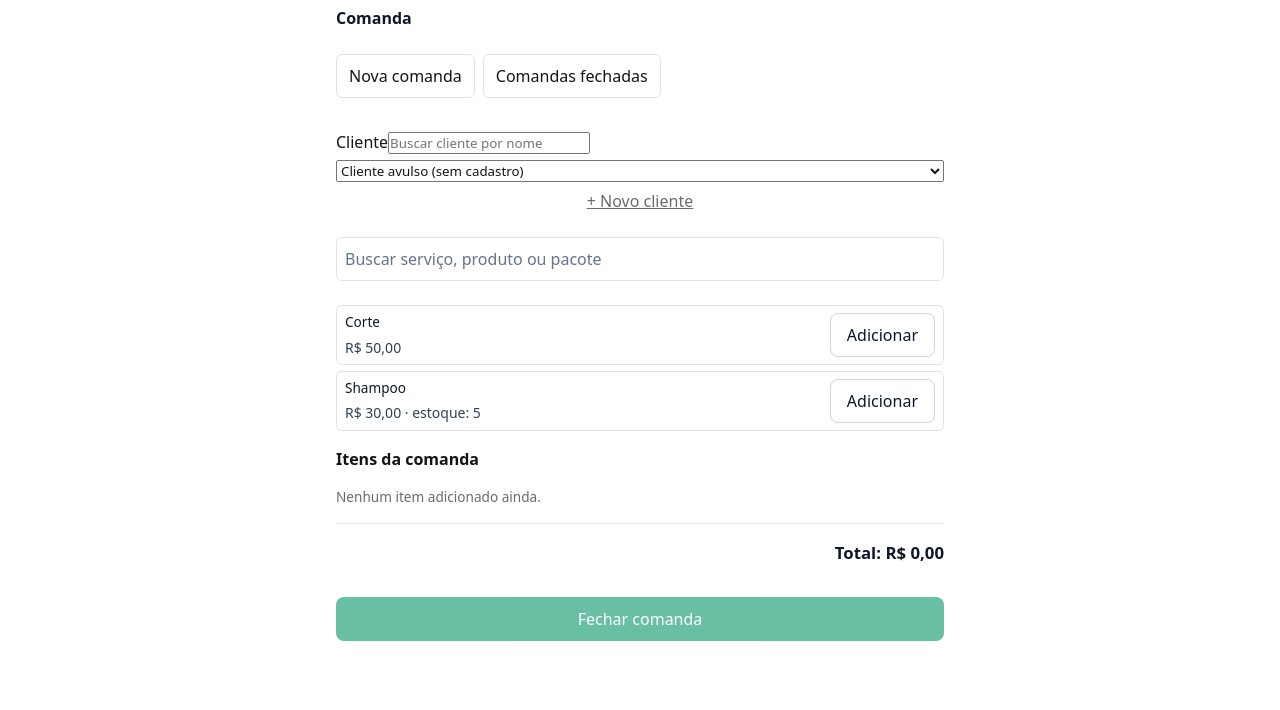
it: ComandaPage › closes a comanda end-to-end with a reconciled payment and shows the confirmation
The width and height of the screenshot is (1280, 710).
Check: the text "Corte" is shown, box 345,312 -> 380,331
Click the button "Adicionar" in the row of "Corte".
click(882, 335)  # box 830,313 -> 935,357
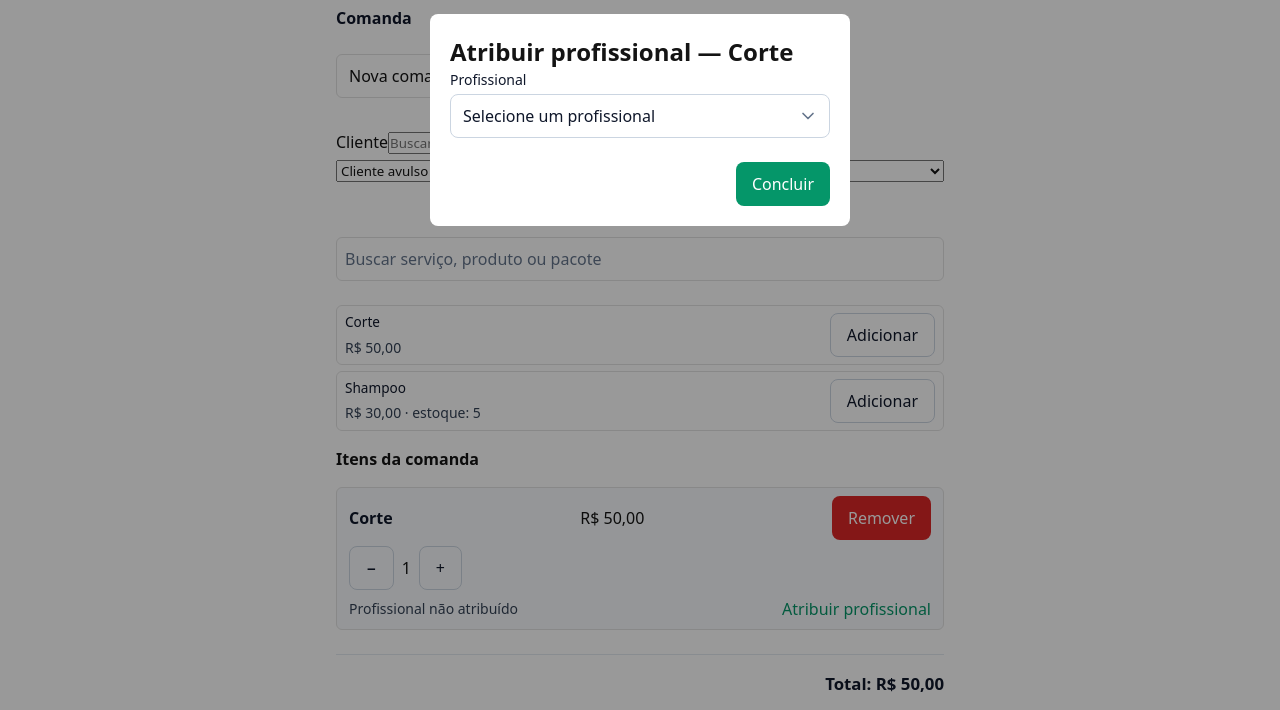
Select "Ana" in the dropdown labelled "Profissional" at (640, 116), box 450,94 -> 830,138
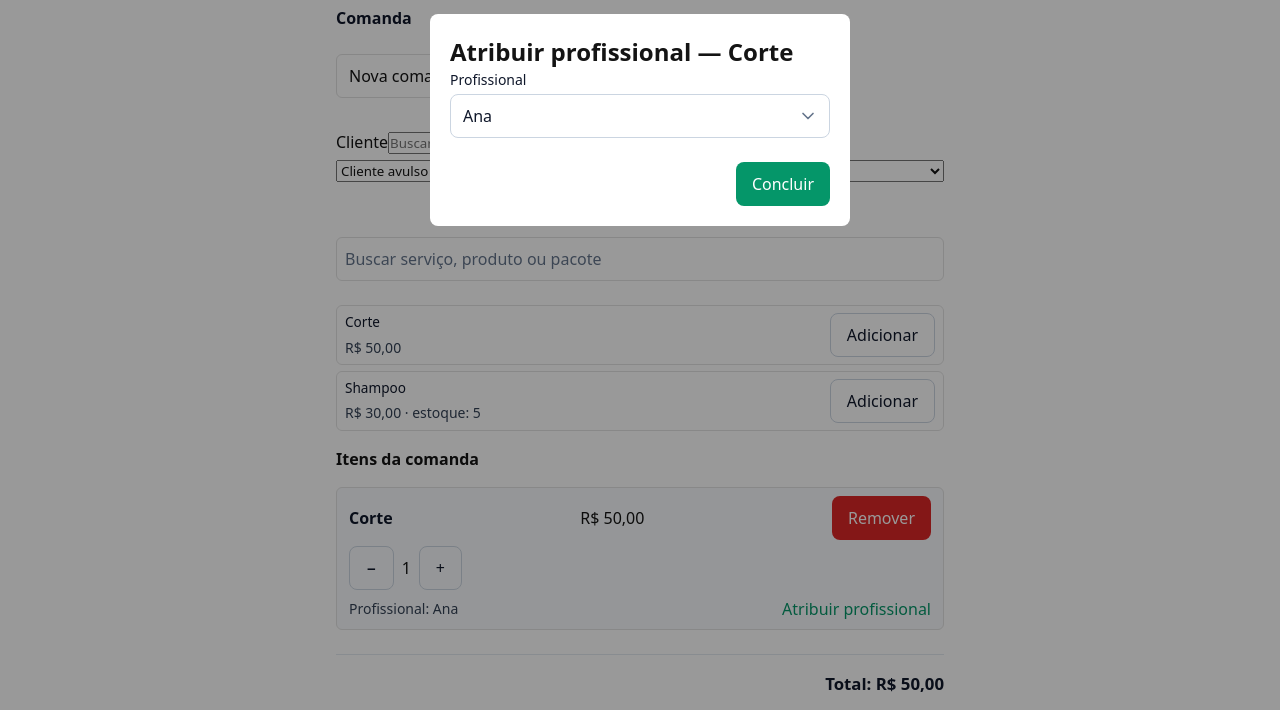
Click the button "Concluir".
click(783, 184)  # box 736,162 -> 830,206
(page scrolled)
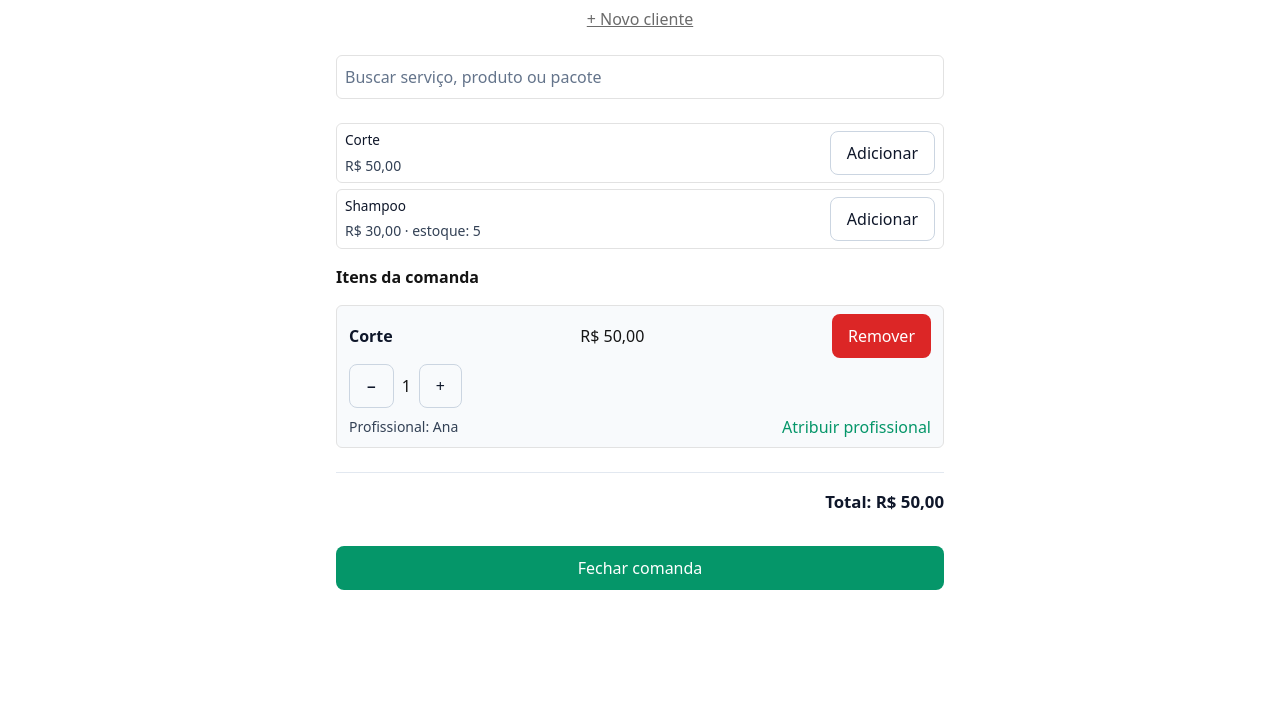
Click the button "Fechar comanda".
click(640, 568)  # box 336,546 -> 944,590
(page scrolled)
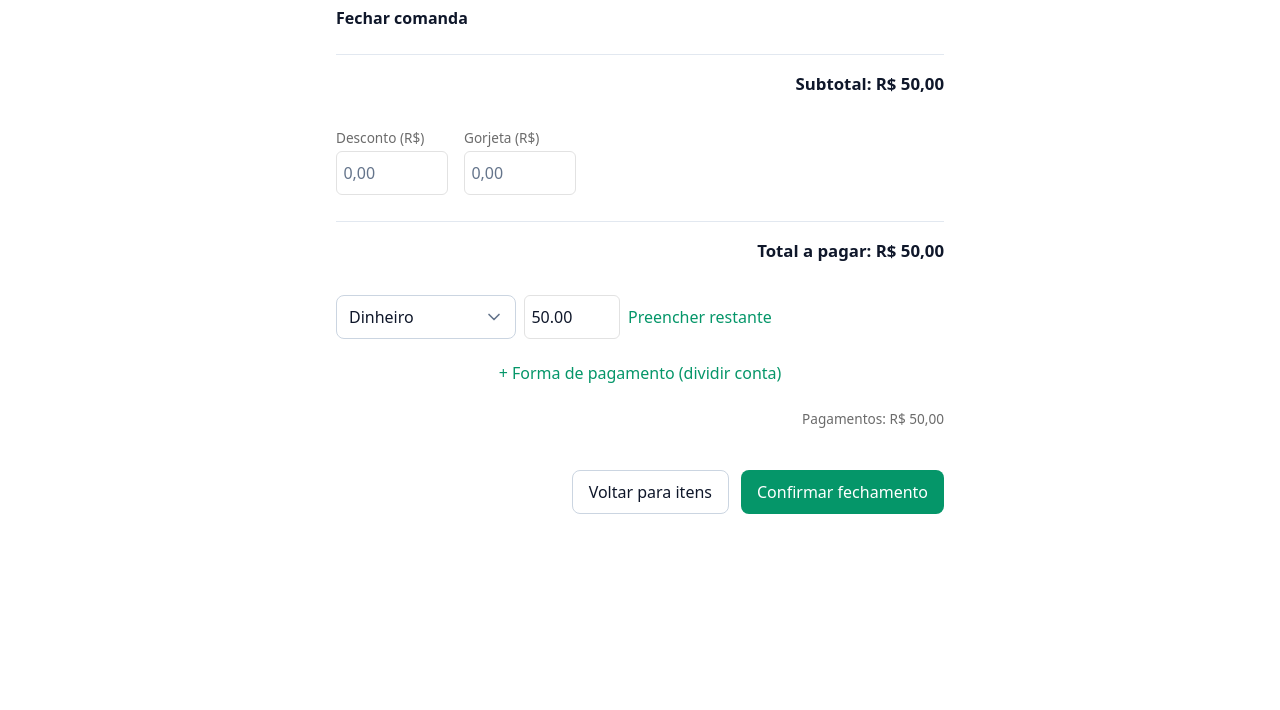
Check: the text "Total a pagar: R$ 50,00" is shown, box 336,221 -> 944,279
Click the button "Confirmar fechamento".
click(842, 492)  # box 741,470 -> 944,514
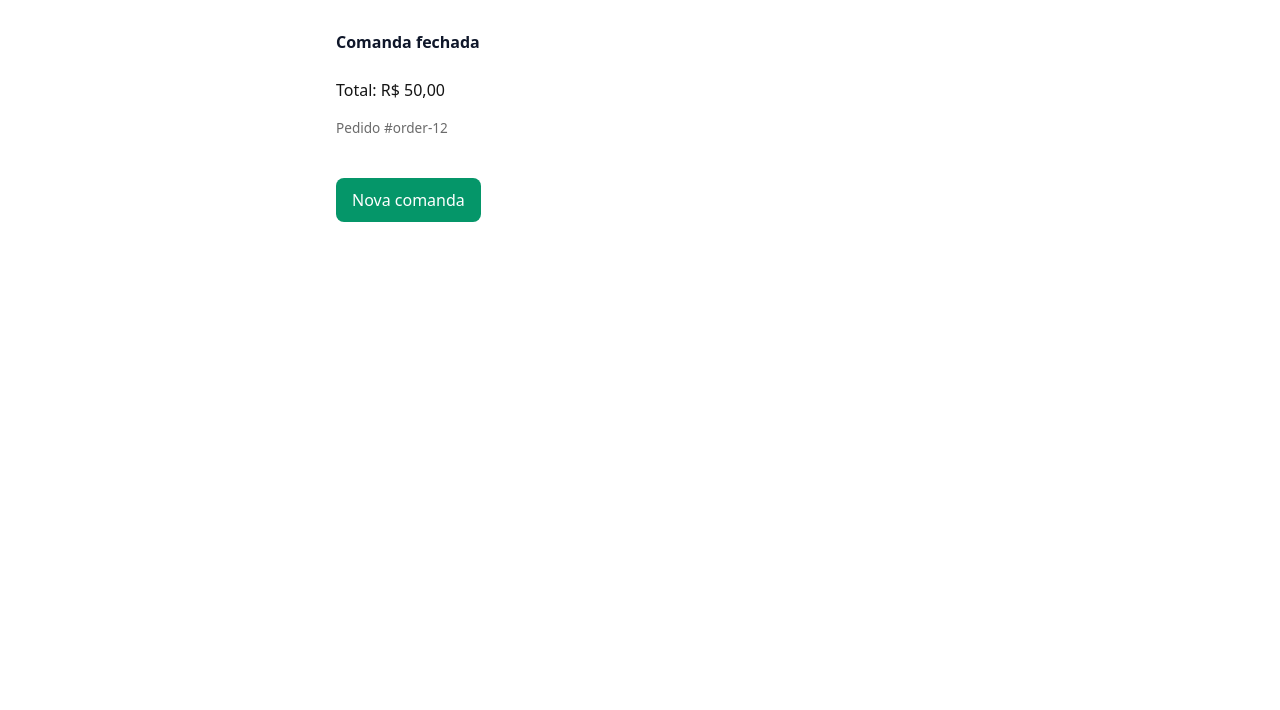
Check: the heading "Comanda fechada" is shown, box 336,30 -> 480,54
